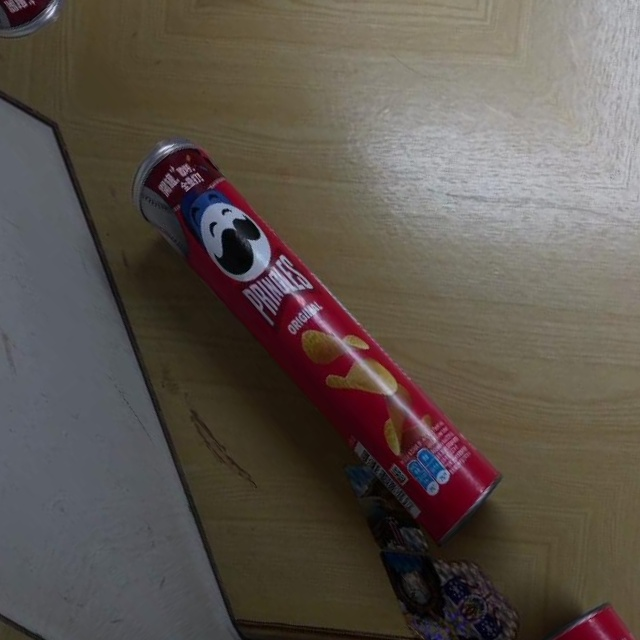Pringles: (113, 110, 512, 556)
